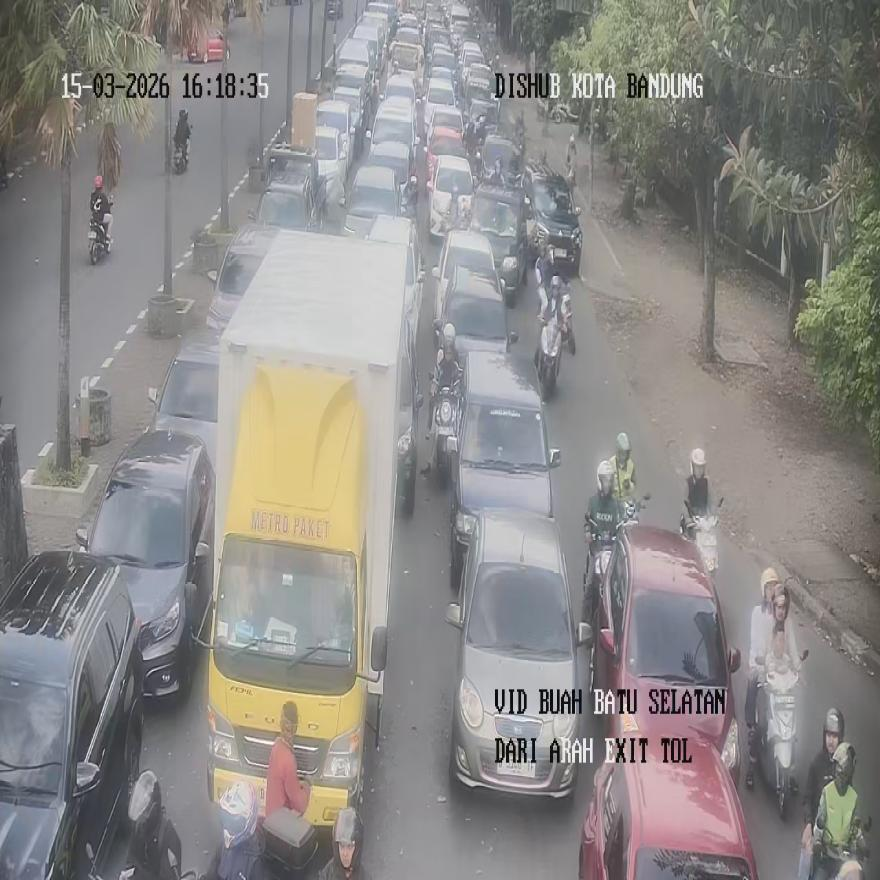Mobil: (0, 550, 145, 879), (447, 508, 593, 797), (75, 429, 214, 703), (591, 523, 740, 774), (448, 352, 561, 588), (578, 738, 758, 878), (205, 224, 280, 338)
Motor: (748, 650, 805, 820), (583, 492, 648, 626), (119, 770, 181, 880), (798, 816, 871, 880), (429, 370, 461, 486), (681, 496, 724, 574), (536, 316, 560, 400), (88, 203, 111, 264), (173, 133, 189, 174)
Truk menengah: (192, 230, 415, 830)
